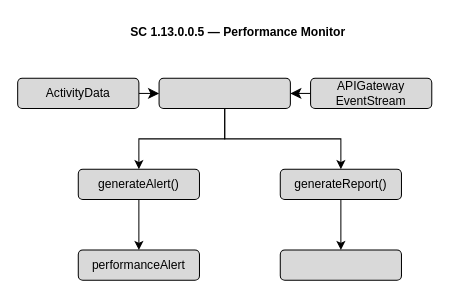
This 449x298 diagram has some shape labels left out. The shapes that lost their labels are listed below. From the top down, each one's centre as x and y in pixels, then its label:
At (x=224, y=93): "monitorPerformance()".
At (x=340, y=264): "AnalyticsReport".
